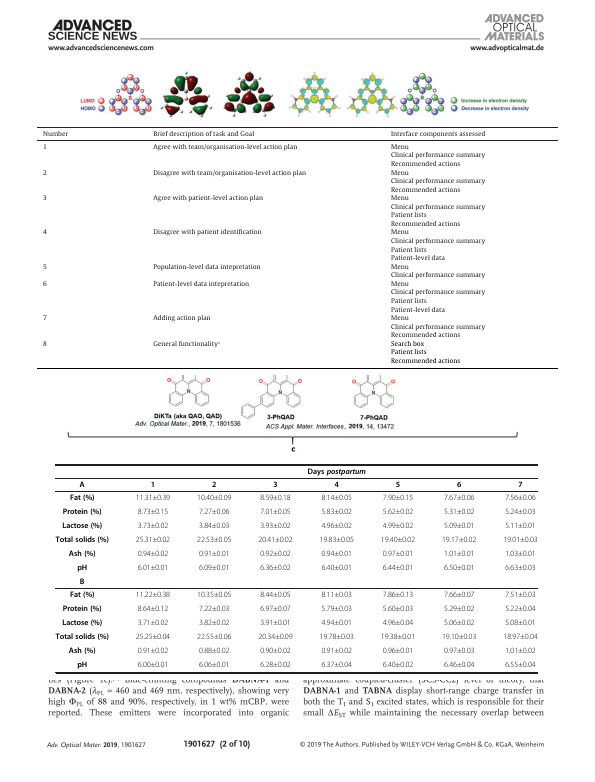borderless: (36, 126, 558, 368), (55, 463, 537, 672)
cell: (389, 195, 485, 229), (389, 229, 485, 263), (389, 281, 485, 315), (389, 169, 485, 195), (389, 144, 485, 169), (389, 315, 485, 340), (389, 341, 461, 366), (389, 263, 485, 280), (152, 169, 306, 178), (152, 144, 298, 152), (152, 229, 262, 238), (152, 263, 261, 272), (152, 130, 255, 139), (152, 195, 263, 203), (389, 130, 486, 139), (152, 281, 249, 289), (152, 340, 221, 349), (55, 535, 110, 545), (55, 632, 110, 642), (307, 467, 367, 476), (152, 315, 211, 323), (61, 521, 103, 531), (61, 618, 103, 628), (62, 507, 102, 517), (62, 604, 102, 614), (68, 549, 96, 559), (68, 646, 96, 656), (69, 493, 95, 503), (69, 590, 95, 600), (41, 130, 69, 139), (135, 494, 171, 501), (196, 494, 232, 501), (135, 536, 171, 543), (196, 536, 232, 543), (257, 536, 293, 543), (319, 536, 355, 543), (380, 536, 416, 543), (441, 536, 477, 543), (502, 536, 538, 543), (135, 591, 171, 598), (196, 591, 232, 598), (135, 633, 171, 640), (196, 633, 232, 640), (257, 633, 293, 640), (319, 633, 355, 640), (380, 633, 416, 640), (441, 633, 477, 640), (502, 633, 538, 640), (259, 494, 292, 501), (320, 494, 353, 501), (504, 494, 537, 501), (259, 508, 292, 515), (320, 508, 353, 515), (504, 508, 537, 515), (259, 522, 292, 529), (320, 522, 353, 529), (504, 522, 537, 529), (259, 550, 292, 557), (320, 550, 353, 557), (504, 550, 537, 557), (259, 564, 292, 571), (320, 564, 353, 571), (504, 564, 537, 571), (259, 591, 292, 598), (320, 591, 353, 598), (504, 591, 537, 598), (259, 605, 292, 612), (320, 605, 353, 612), (504, 605, 537, 612), (259, 619, 292, 626), (320, 619, 353, 626), (504, 619, 537, 626), (259, 647, 292, 654), (320, 647, 353, 654), (504, 647, 537, 654), (259, 661, 292, 668), (320, 661, 353, 668), (504, 661, 537, 668), (382, 494, 414, 501), (443, 494, 475, 501), (137, 508, 169, 515), (198, 508, 230, 515), (382, 508, 414, 515), (443, 508, 475, 515), (137, 522, 169, 529), (198, 522, 230, 529), (382, 522, 414, 529), (443, 522, 475, 529), (137, 550, 169, 557), (198, 550, 230, 557), (382, 550, 414, 557), (443, 550, 475, 557), (137, 564, 169, 571), (198, 564, 230, 571), (382, 564, 414, 571), (443, 564, 475, 571), (382, 591, 414, 598), (443, 591, 475, 598), (137, 605, 169, 612), (198, 605, 230, 612), (382, 605, 414, 612), (443, 605, 475, 612), (137, 619, 169, 626), (198, 619, 230, 626), (382, 619, 414, 626), (443, 619, 475, 626), (137, 647, 169, 654), (198, 647, 230, 654), (382, 647, 414, 654), (443, 647, 475, 654), (137, 661, 169, 668), (198, 661, 230, 668), (382, 661, 414, 668), (443, 661, 475, 668), (76, 563, 88, 573), (76, 660, 88, 670), (79, 480, 86, 490), (333, 480, 340, 490), (150, 480, 156, 490), (211, 480, 217, 490), (272, 480, 278, 490), (395, 480, 401, 490), (456, 480, 462, 490), (517, 480, 523, 490), (79, 577, 85, 587), (41, 169, 47, 178), (41, 229, 47, 238), (41, 263, 47, 272), (41, 144, 47, 152), (41, 195, 47, 203), (41, 281, 47, 289), (41, 315, 47, 323), (41, 341, 47, 349)
